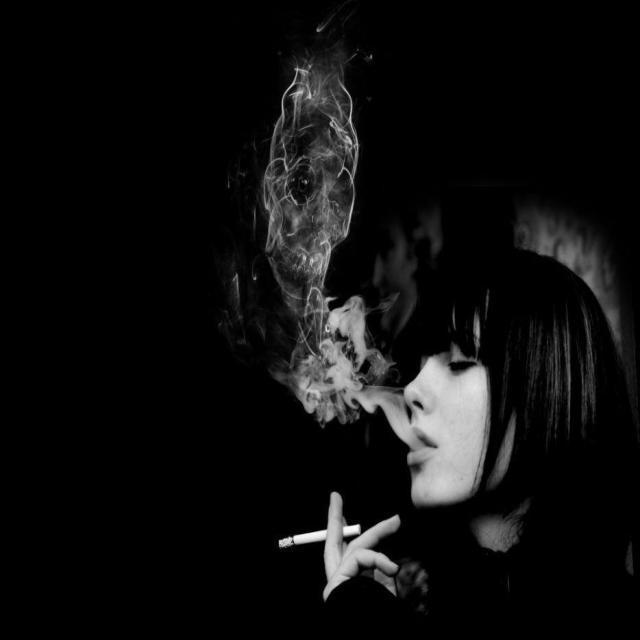rokok: (278, 522, 359, 552)
